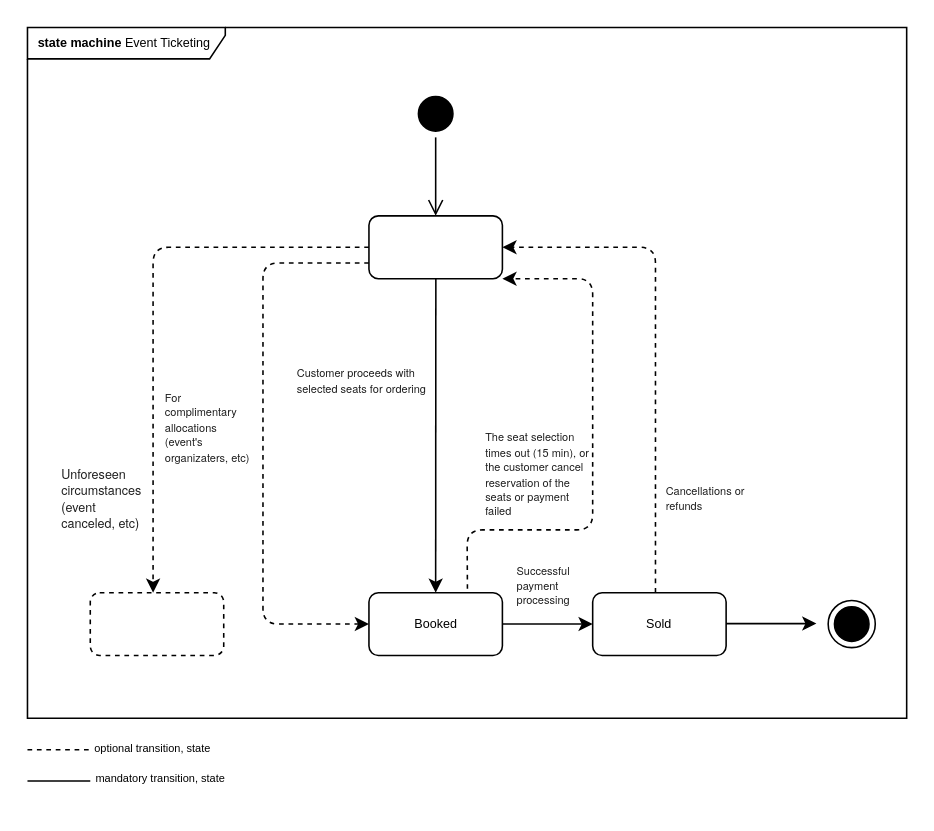
The diagram is 934 pixels wide and 831 high, and some of its shapes have lost their labels. Here are the shapes that lost their labels. From the top down, the centre of each, then its label:
At point (434, 246): "Available".
At point (156, 623): "Unavailable".
